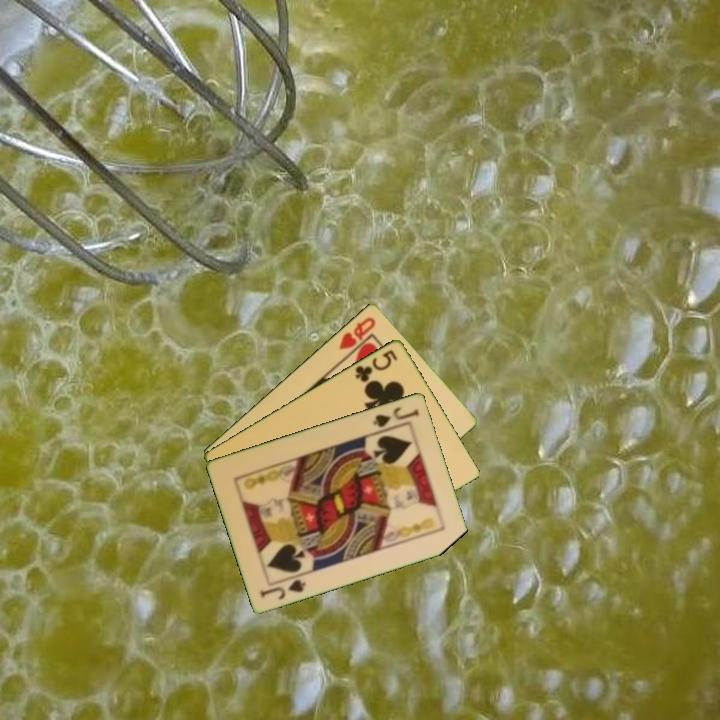5c: (351, 346, 400, 385)
Js: (369, 403, 422, 430), (256, 575, 309, 602)
Qh: (335, 313, 379, 352)
